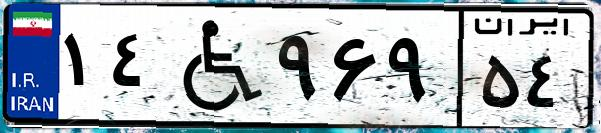1: (57, 26, 110, 100)
4: (525, 38, 570, 115), (110, 28, 158, 98)
5: (475, 38, 525, 113)
6: (330, 28, 385, 110)
9: (270, 28, 330, 110), (385, 28, 445, 110)
ژ (معلولین و جانبازان): (158, 12, 270, 120)
